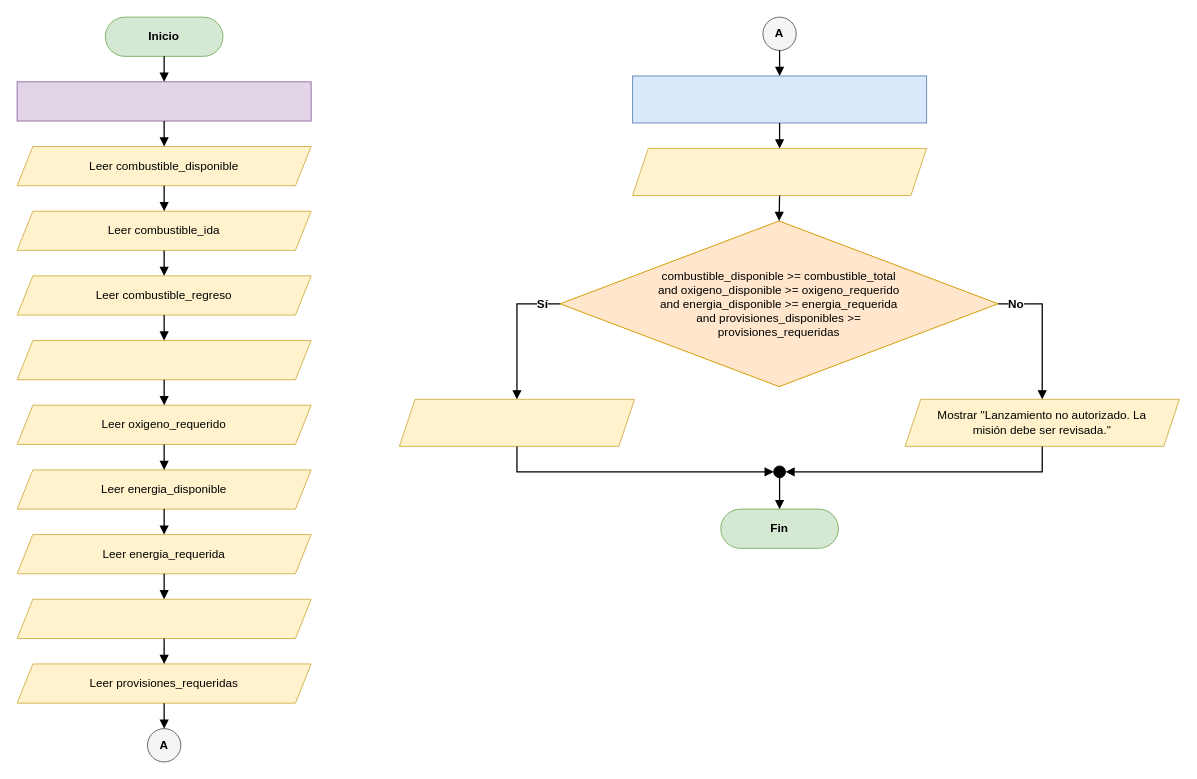
This 1197x779 diagram has some shape labels left out. Here are the shapes that lost their labels. From the top down, the box of each, then its label:
(16, 81, 311, 121): RESERVA_COMBUSTIBLE = 10
(632, 75, 927, 123): combustible_total = combustible_ida + combustible_regreso + RESERVA_COMBUSTIBLE
(632, 147, 927, 196): Mostrar "Combustible total requerido:", combustible_total, "unidades"
(16, 340, 311, 380): Leer oxigeno_disponible
(398, 398, 635, 446): Mostrar "Lanzamiento autorizado."
(16, 598, 311, 638): Leer provisiones_disponibles
